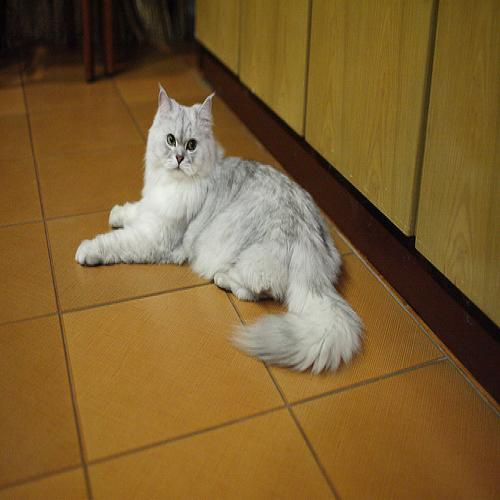persian: (138, 76, 227, 193)
